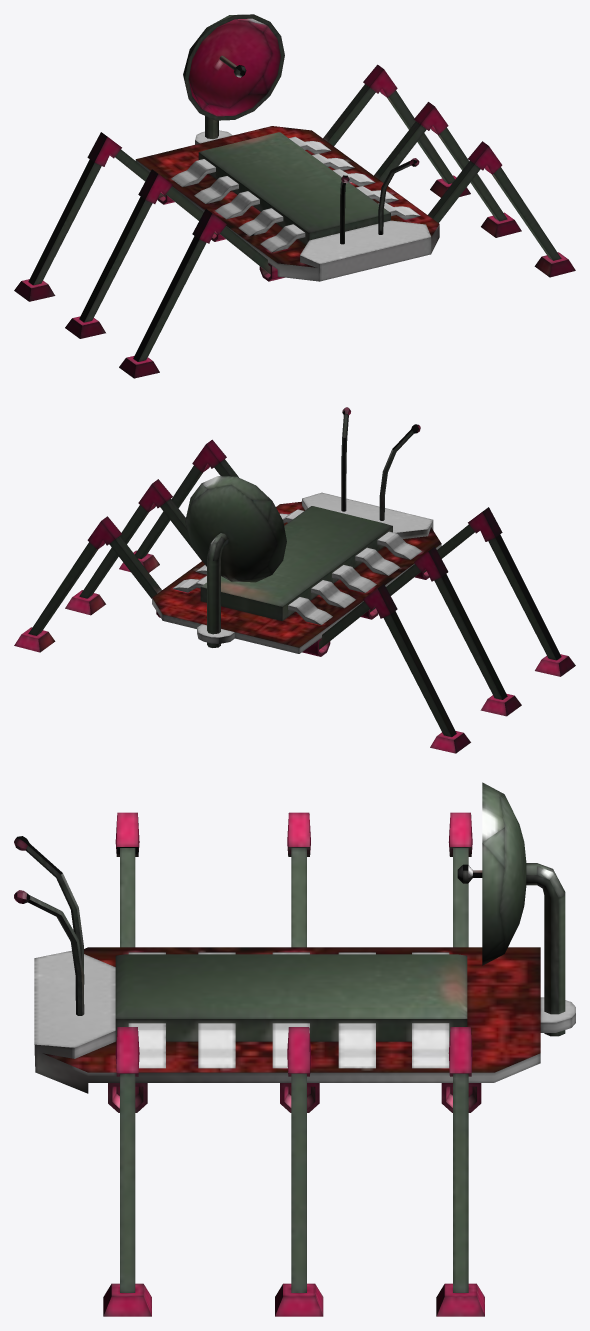
The model's file is bugfull.obj.
3 renders of one model, top to bottom at view 1: azimuth 30°, elevation 25°; view 2: azimuth 150°, elevation 25°; view 3: azimuth 270°, elevation 25°, orthographic. The views are drawn at different scales.
Visible parts, largest first — view 1: Object002; view 2: Object002; view 3: Object002.
Part boxes in pixels (x1=…): Object002: x1=14, y1=14, x2=575, y2=378; Object002: x1=14, y1=407, x2=575, y2=753; Object002: x1=14, y1=782, x2=575, y2=1316.
Bounding box in the file's own units: 78.37 × 37.8 × 54.3.
1 material, 1 textured.
